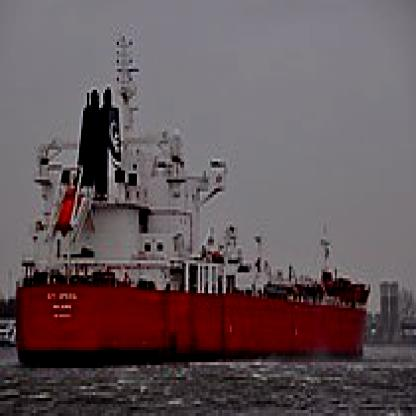Tanker: (32, 96, 388, 362)
